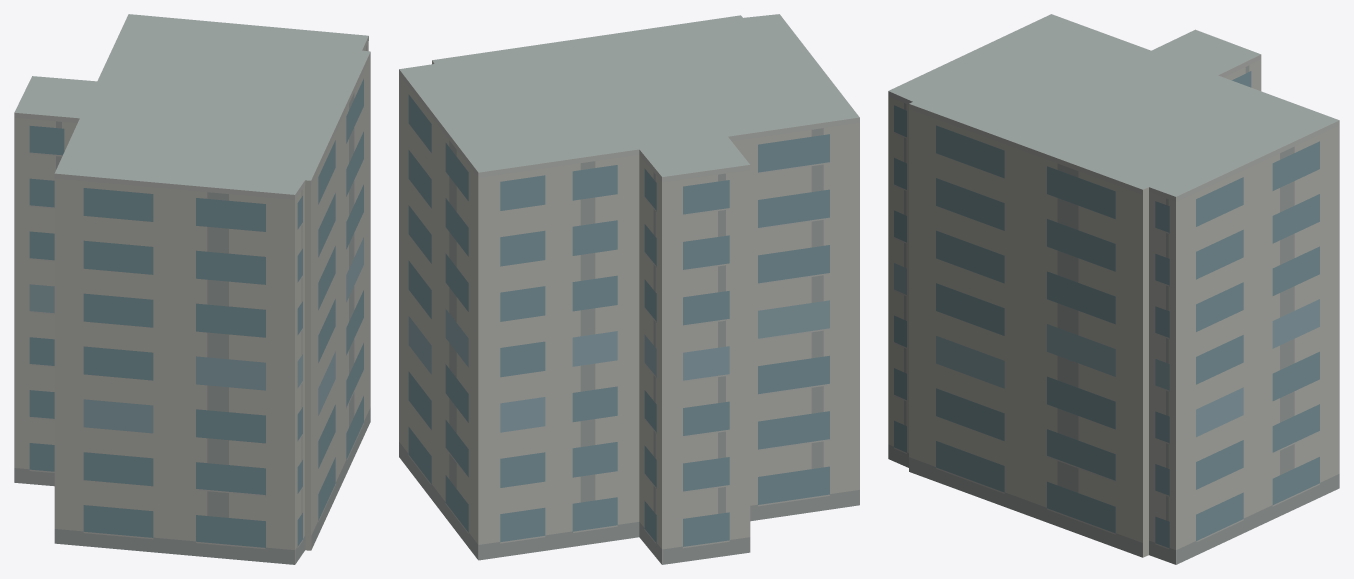
File: survey-upis-32523854.glb
3 renders of one model, left to right at view 1: azimuth 30°, elevation 25°; view 2: azimuth 150°, elevation 25°; view 3: azimuth 270°, elevation 25°, orthographic. The views are drawn at different scales.
Parts seen in each view (by area): view 1: survey-upis-32523854.tmp; view 2: survey-upis-32523854.tmp; view 3: survey-upis-32523854.tmp.
Boxes of the visible parts, left/top/right/bottom form: survey-upis-32523854.tmp: left=14, top=14, right=370, bottom=564; survey-upis-32523854.tmp: left=399, top=14, right=859, bottom=564; survey-upis-32523854.tmp: left=888, top=14, right=1339, bottom=564.
Bounding box in the file's own units: 18.99 × 17.8 × 19.8.
